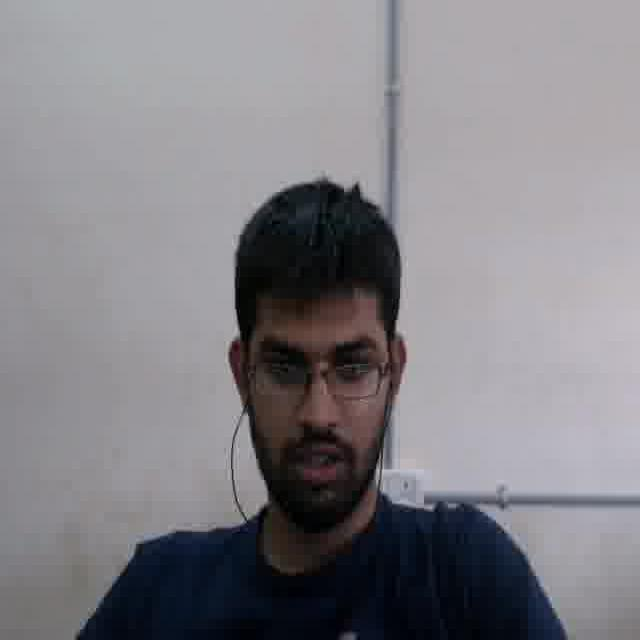Boredom: (244, 286, 385, 514)
